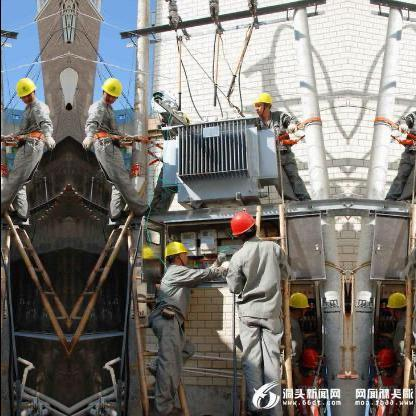Helmet: (228, 208, 255, 242), (162, 238, 188, 266), (286, 289, 308, 321), (385, 289, 407, 321), (250, 88, 272, 118), (98, 74, 120, 102), (14, 74, 36, 102)
